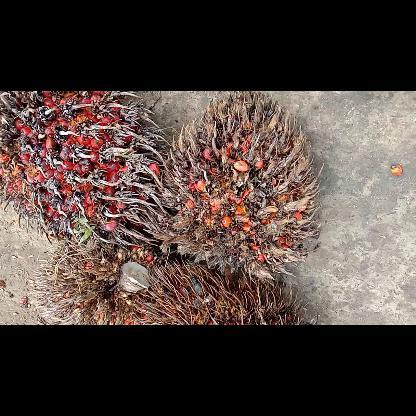Terlalu masak: (149, 91, 323, 279), (0, 91, 168, 253), (130, 256, 320, 324), (30, 236, 168, 324)
